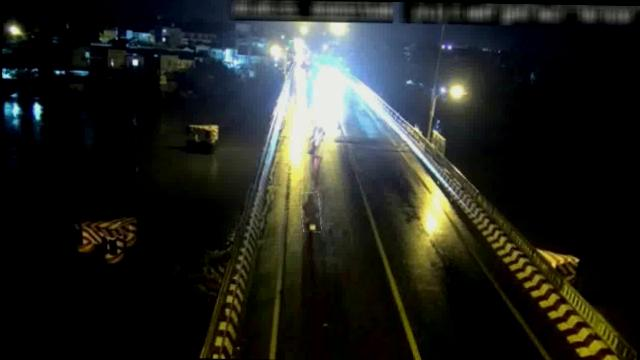Bike: (301, 192, 322, 232), (306, 125, 325, 155)
